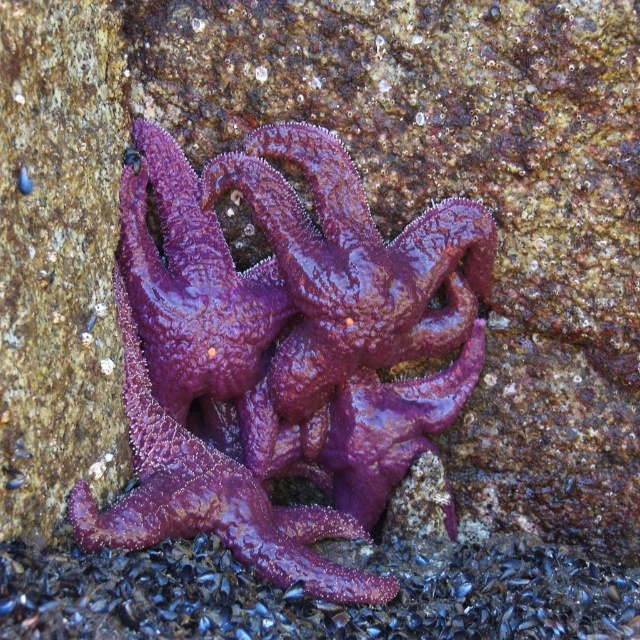Starfish: (68, 119, 499, 609)
